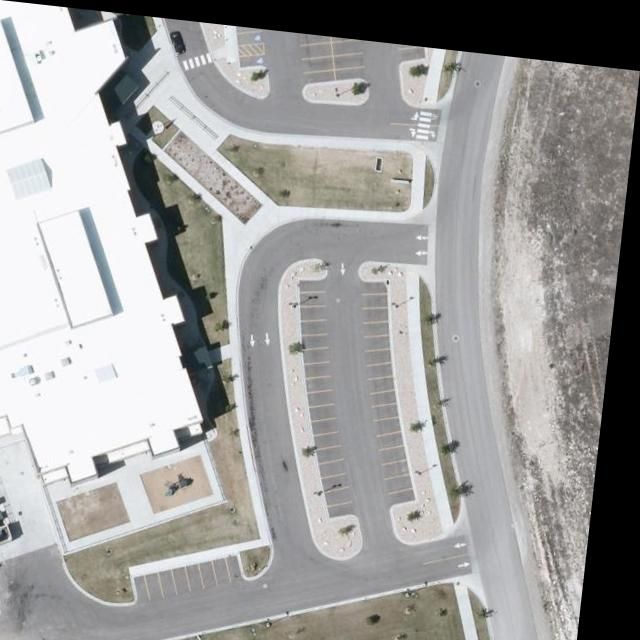vehicle: (168, 27, 189, 53)
